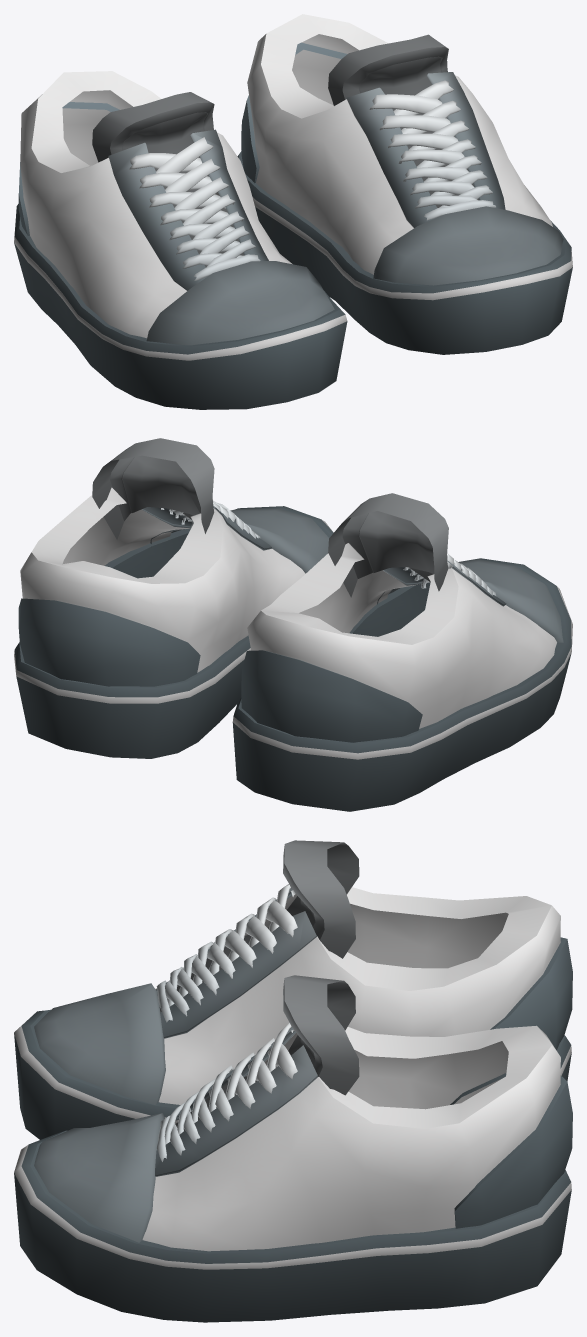
File: Shoe_Sneakers_07.glb
The picture shows the model from 3 angles, top to bottom: view 1: azimuth 30°, elevation 25°; view 2: azimuth 150°, elevation 25°; view 3: azimuth 270°, elevation 25°; orthographic projection. The views are drawn at different scales.
Parts seen in each view (by area): view 1: Shoe_Sneakers_07; view 2: Shoe_Sneakers_07; view 3: Shoe_Sneakers_07.
Part boxes in pixels (x1,y1,x2,y2): Shoe_Sneakers_07: (14, 14, 572, 409); Shoe_Sneakers_07: (14, 438, 572, 811); Shoe_Sneakers_07: (14, 840, 572, 1322).
Size of the model in its own units: 0.2495 by 0.1225 by 0.2239.
Materials: 1 (1 with a texture image).
